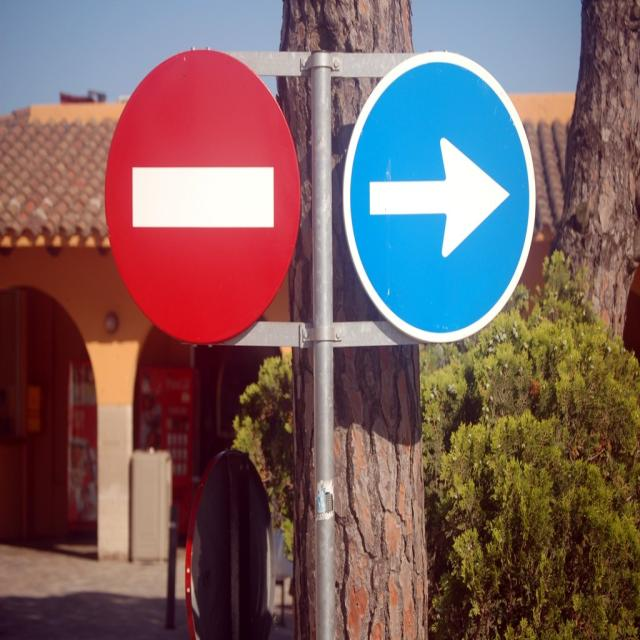Stop-sign: (100, 47, 306, 347)
